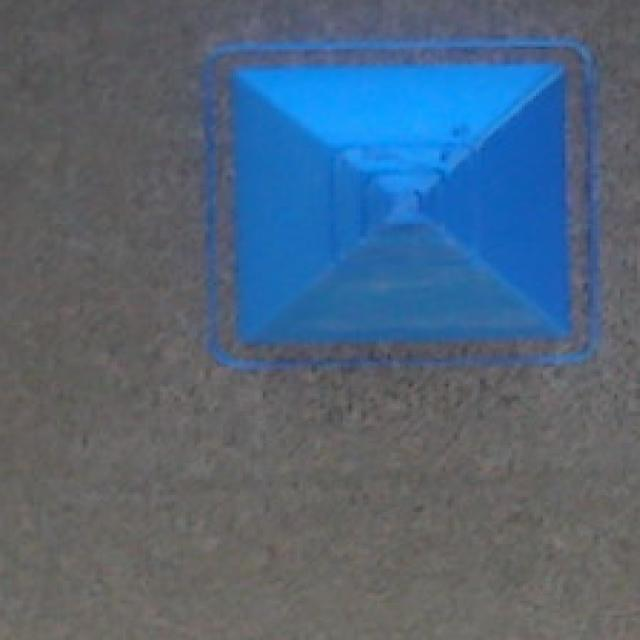mistake: (206, 42, 596, 364)
